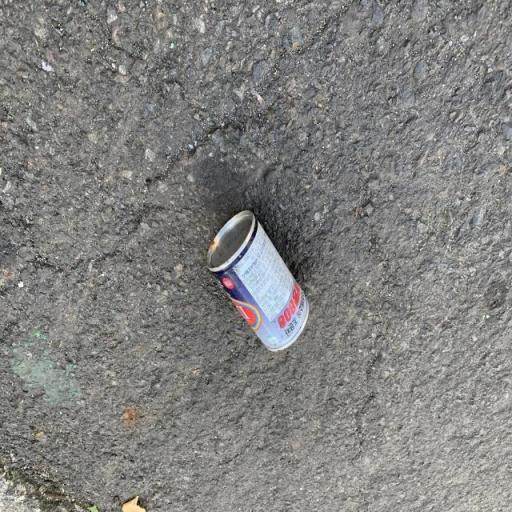metal: (200, 186, 316, 371)
